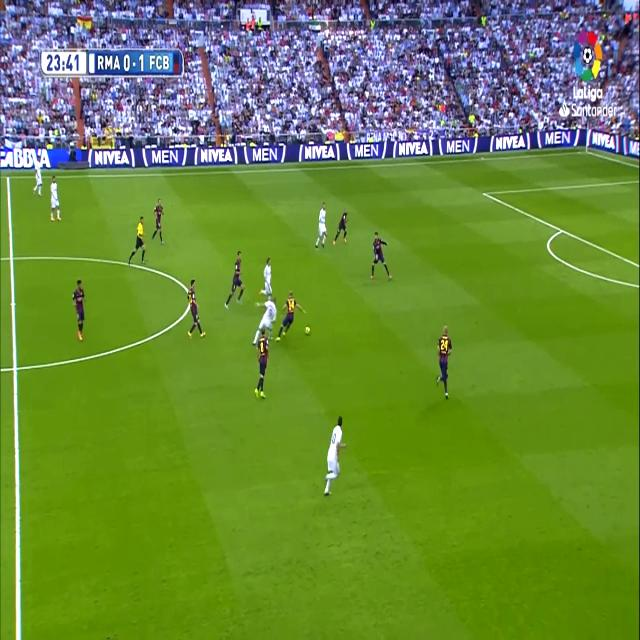corner: (582, 145, 590, 157)
halfcircle_bottom: (8, 352, 22, 384)
halfcircle_top: (6, 244, 16, 269)
top_arc_area_intersection: (557, 222, 565, 238)
